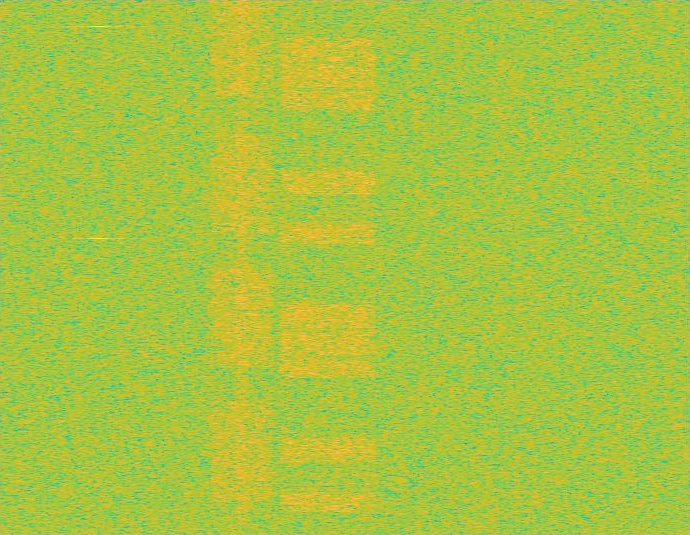5G: (207, 0, 276, 534)
DSSS: (234, 0, 249, 534)
LTE: (276, 0, 380, 534)
Radar: (92, 0, 106, 534)
